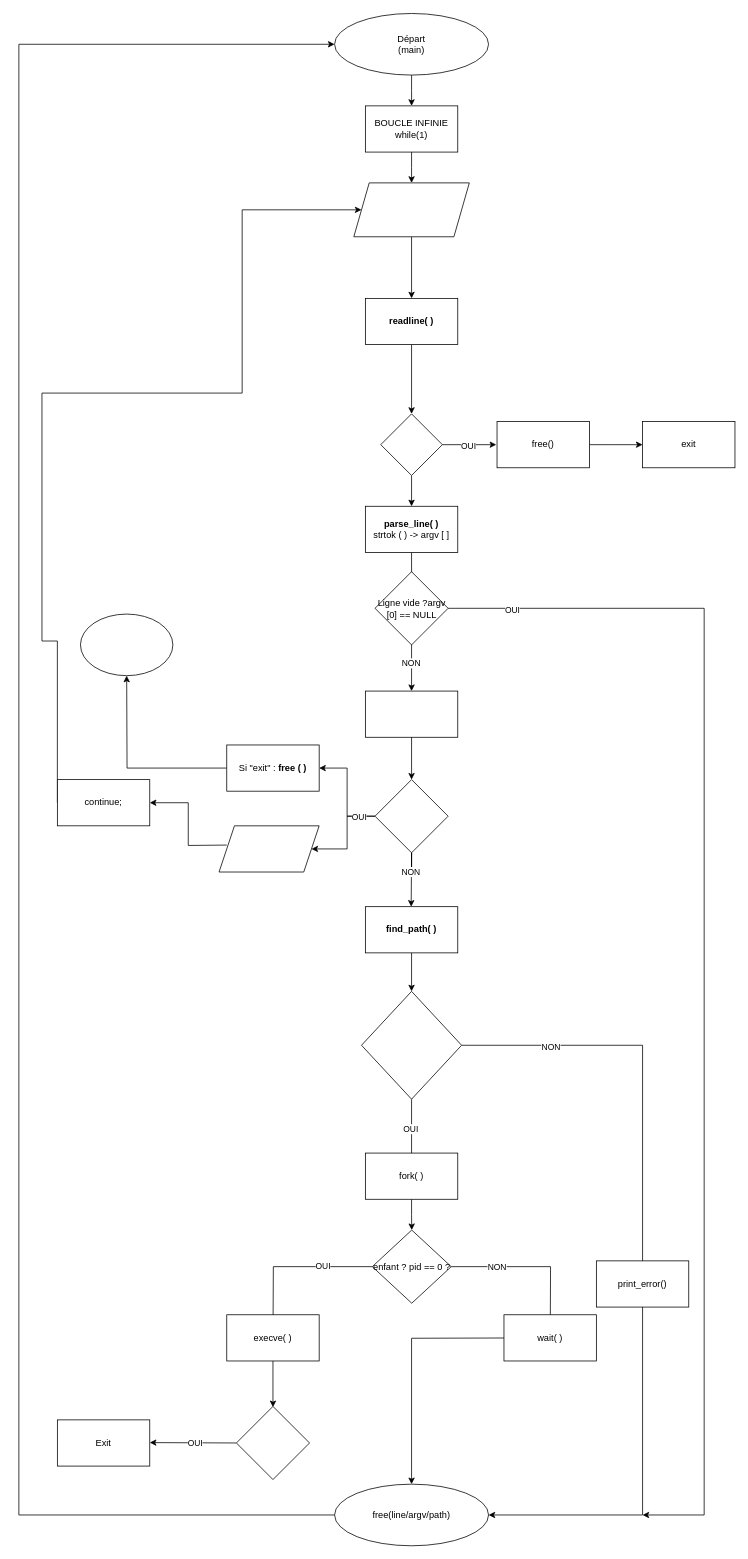
This 748x1559 diagram has some shape labels left out. Each missing label, with the centre of its shape:
check_builtin( ) (ex : exit, env...): point 411,713
display_prompt( ) isatty() ? #cisfun$: point 411,209
EOF ? (Ctrl+D): point 411,444
Erreur ?: point 273,1443
Est-ce un built-in ?: point 411,816
exit(status): point 126,644
Pathname trouvé ? (access X_OK == 0): point 411,1045
si "env" : print_env( ): point 268,848
